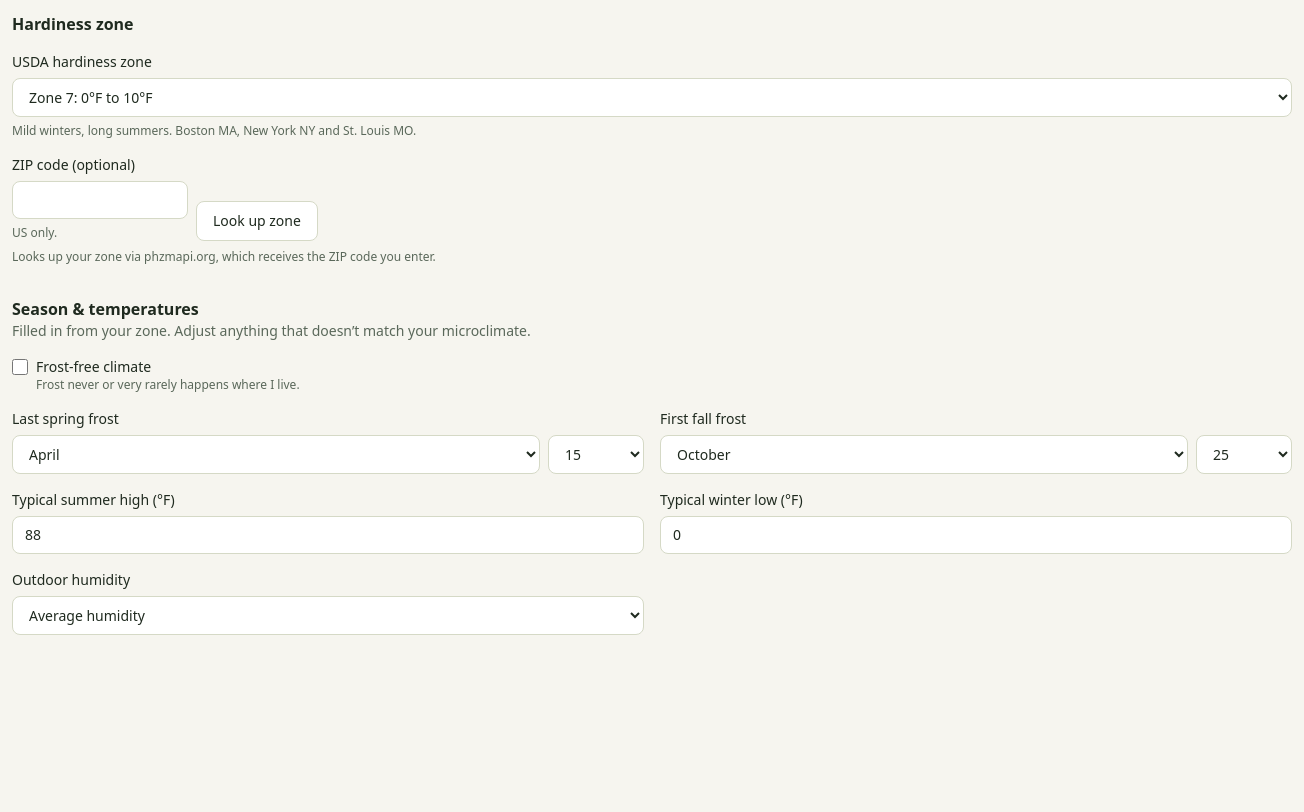
Scenario: ClimateStep zip lookup › starts only one lookup when Enter is pressed repeatedly while loading
Later steps or results of the test are not shown.
Type "02134" into the field labelled "ZIP code (optional)".
click(100, 200); type("02134")  # box [12,181,188,219]
Then press Enter, Enter, Enter
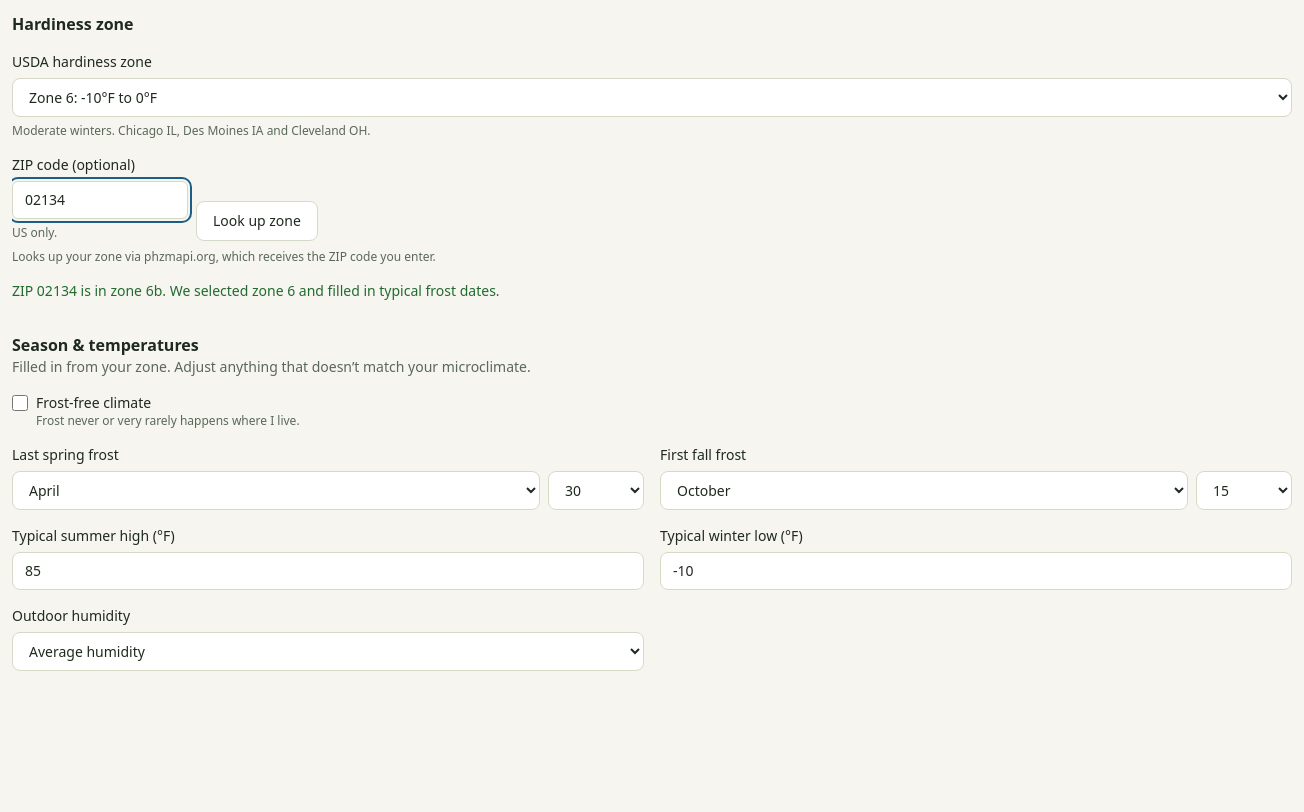
Expected: the message "ZIP 02134 is in zone 6b. We selected zone 6 and filled in typical frost dates." is shown, [12,281,500,300]
